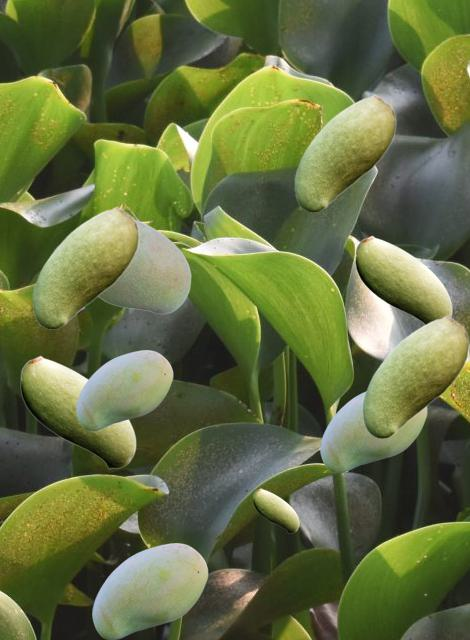green_mango: (20, 355, 135, 468), (362, 315, 468, 437), (32, 206, 138, 328), (294, 94, 395, 211), (92, 543, 207, 638), (99, 219, 190, 313), (320, 391, 426, 471), (355, 235, 451, 323), (76, 350, 172, 429), (253, 488, 298, 532)
